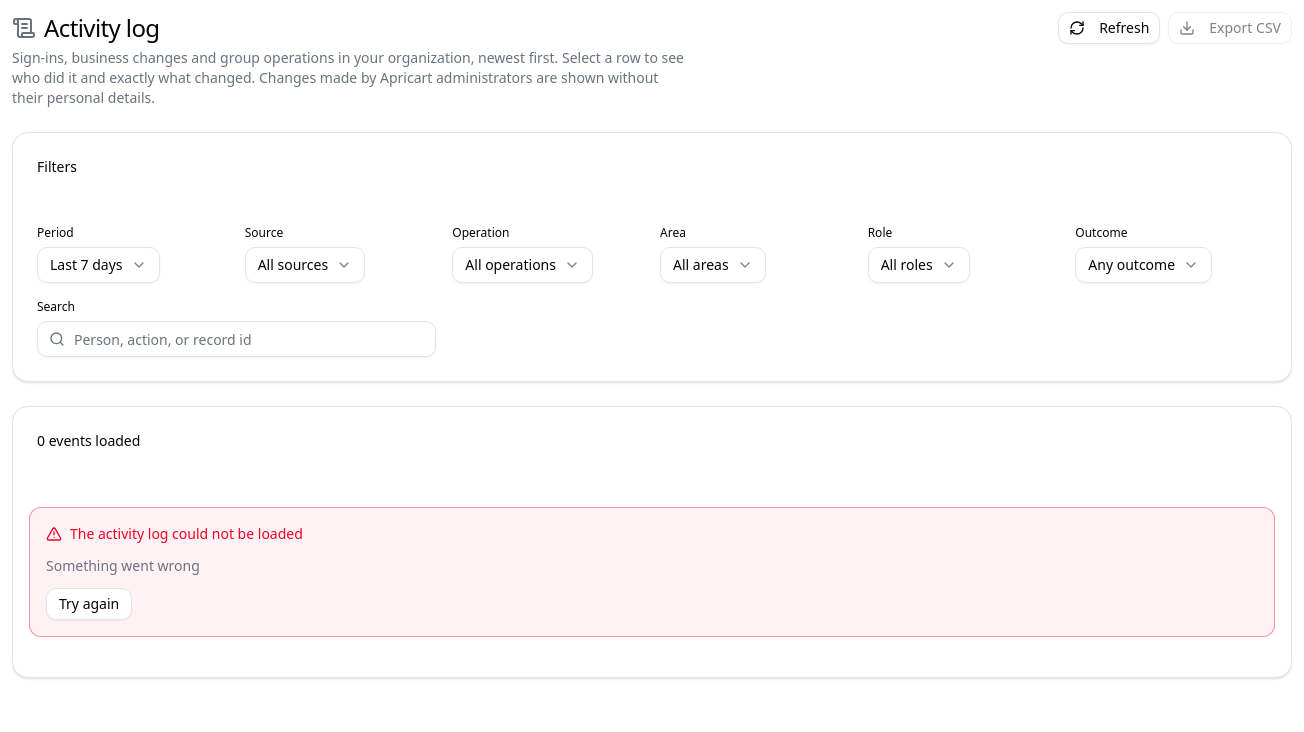
it: the three states › offers a retry that asks again
Expected: the message "The activity log could not be loaded Something went wrong Try again" is shown, [29,507,1275,637]
Step 1. Click the button "Try again" → (89, 604), box [46,588,132,620]
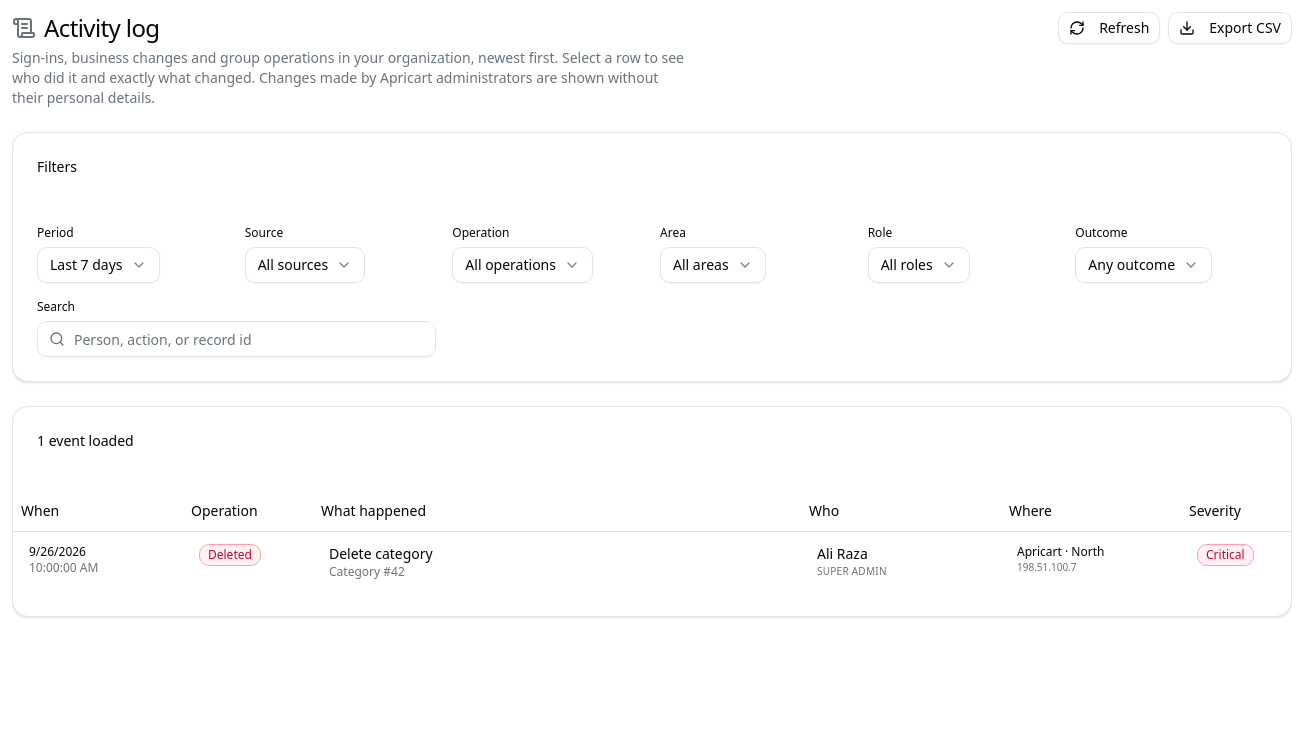
Expected: the text "Delete category" is shown, [329,544,433,562]
